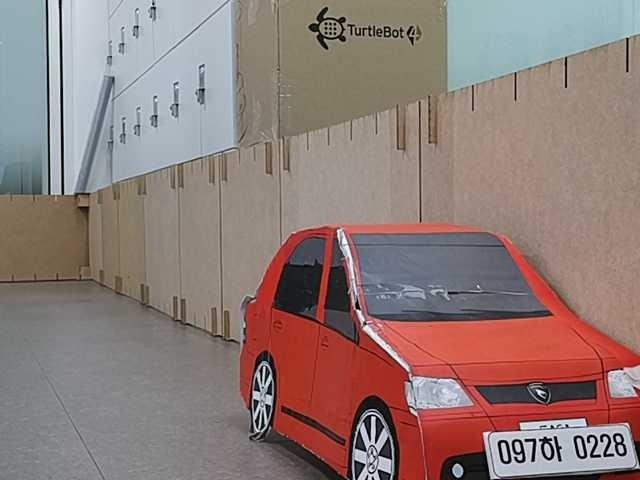car: (239, 222, 640, 480)
id: (482, 422, 638, 480)
